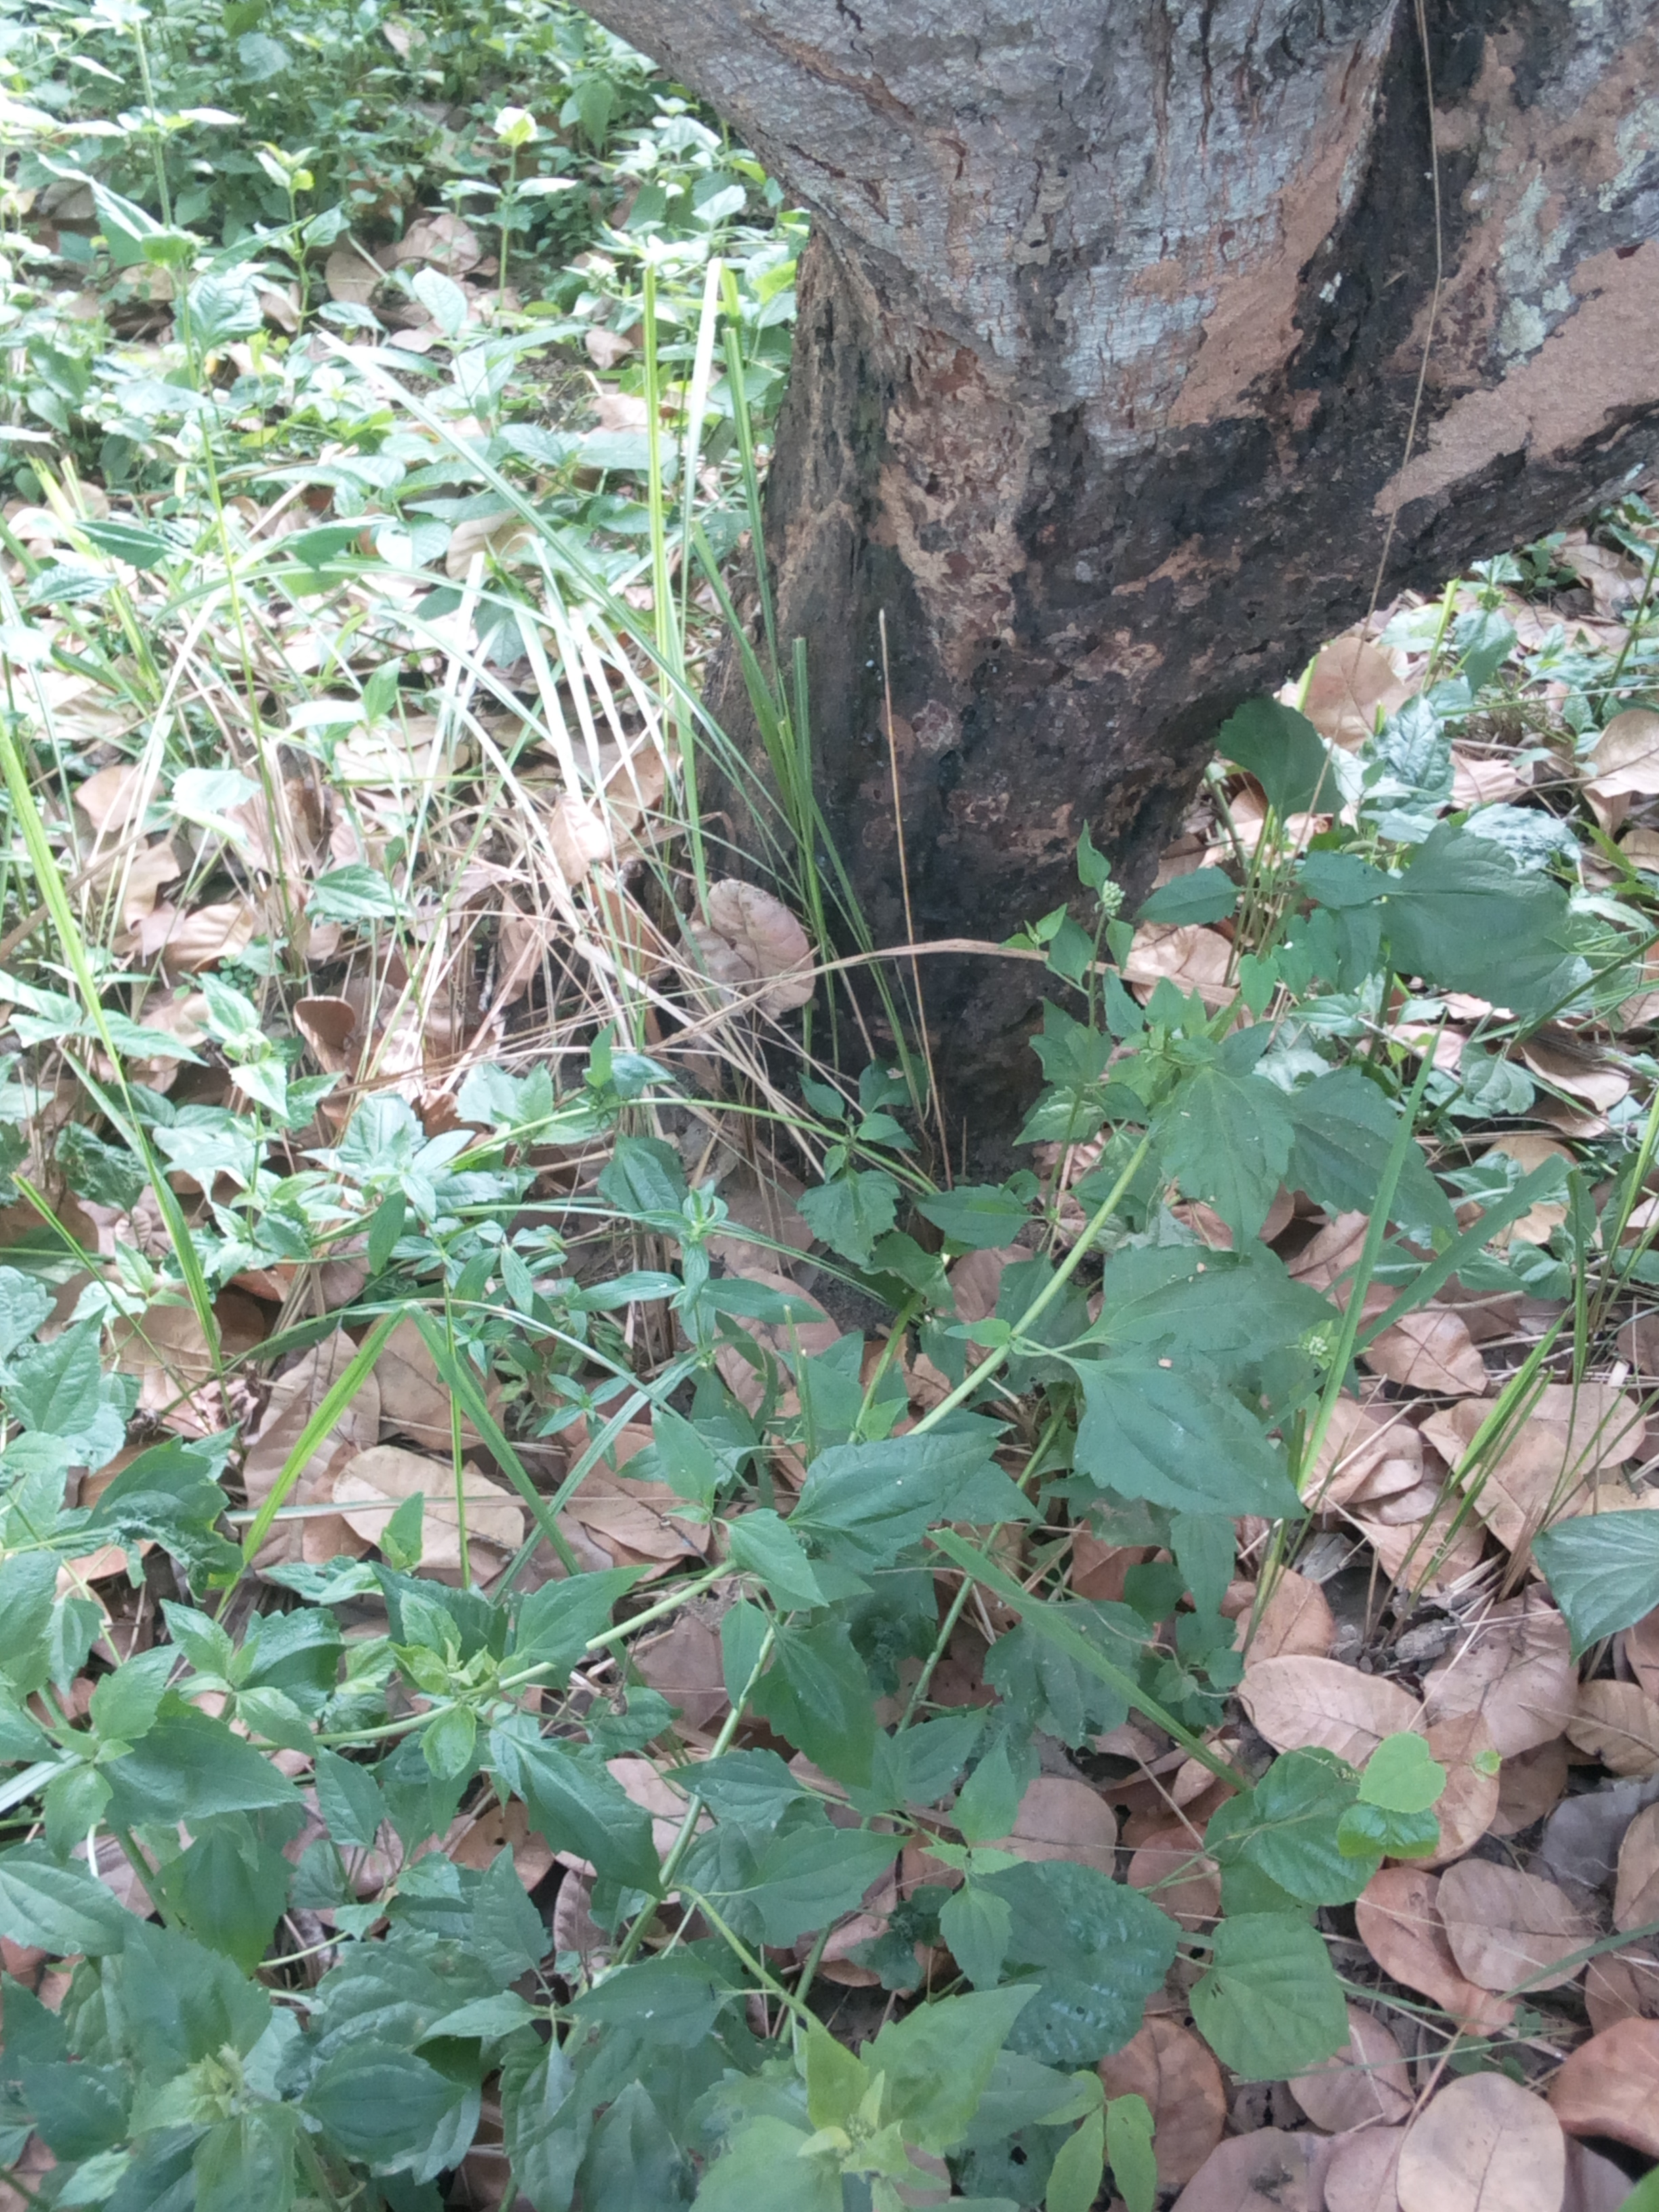Termites: (819, 324, 1131, 998), (1223, 92, 1659, 514)
